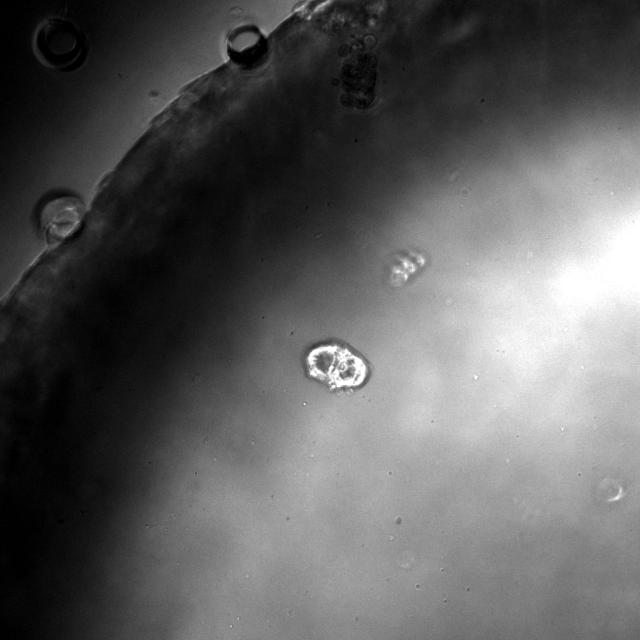organoid: (304, 341, 369, 392), (339, 34, 377, 108), (386, 249, 429, 287)
